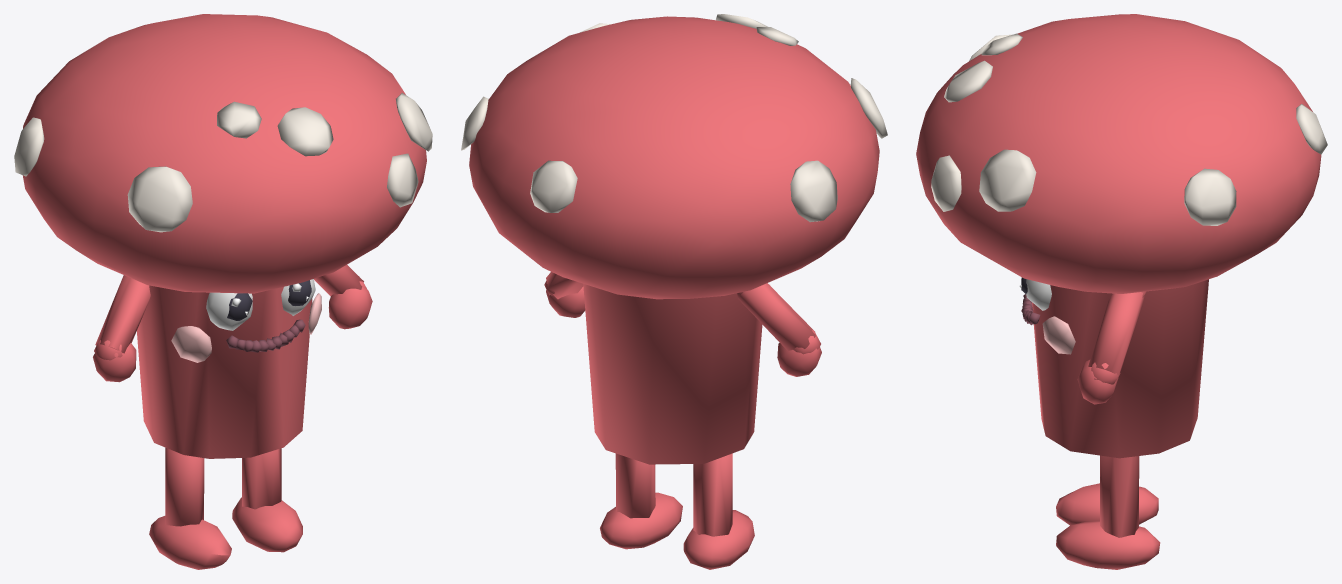
The model's file is Mushroom.fbx.
The picture shows the model from 3 angles, left to right: view 1: azimuth 30°, elevation 25°; view 2: azimuth 150°, elevation 25°; view 3: azimuth 270°, elevation 25°; orthographic projection.
Parts seen in each view (by area): view 1: EX_Mushroom; view 2: EX_Mushroom; view 3: EX_Mushroom.
Part boxes in pixels (x1=…): EX_Mushroom: x1=14, y1=14, x2=432, y2=569; EX_Mushroom: x1=461, y1=14, x2=887, y2=569; EX_Mushroom: x1=916, y1=14, x2=1327, y2=569.
Bounding box in the file's own units: 157 × 212 × 157.
